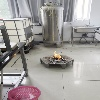fire: (52, 50, 61, 59)
